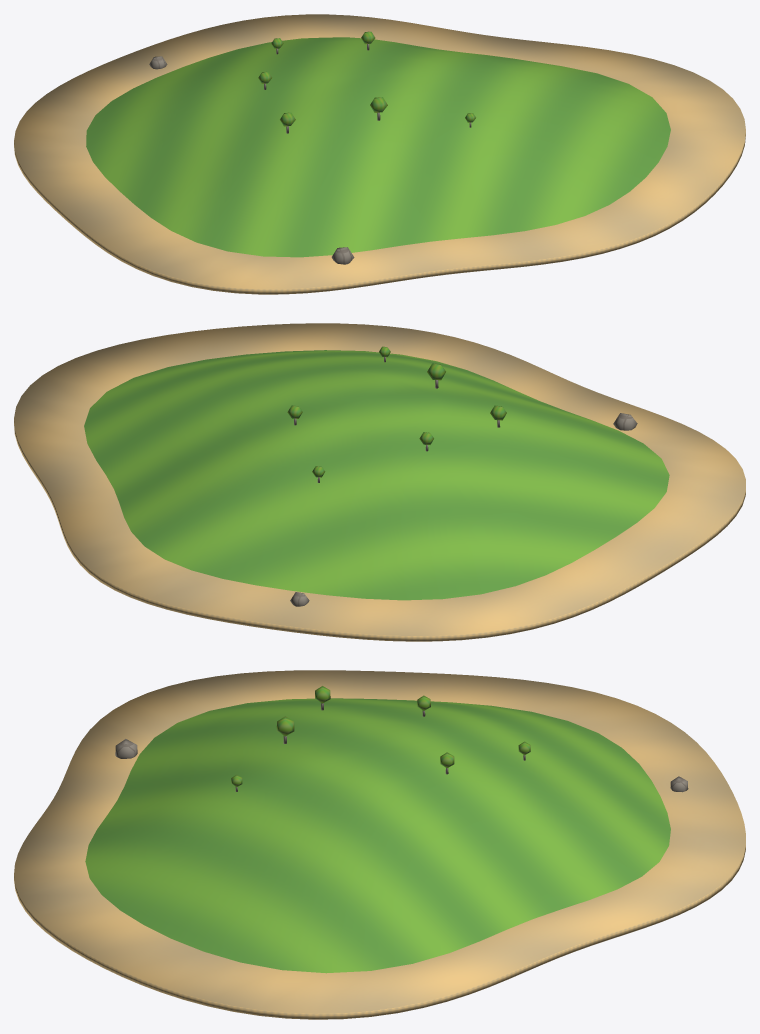
Rendered from ISL-L_LOD1.fbx.
3 views of the same model, one above another, from view 1: azimuth 30°, elevation 25°; view 2: azimuth 150°, elevation 25°; view 3: azimuth 270°, elevation 25° (orthographic). The views are drawn at different scales.
Parts seen in each view (by area): view 1: ISL-L_LOD1_Assembled; view 2: ISL-L_LOD1_Assembled; view 3: ISL-L_LOD1_Assembled.
Part boxes in pixels (x1=…): ISL-L_LOD1_Assembled: x1=14, y1=14, x2=745, y2=294; ISL-L_LOD1_Assembled: x1=14, y1=323, x2=745, y2=641; ISL-L_LOD1_Assembled: x1=14, y1=670, x2=745, y2=1019.
Size of the model in its own units: 188 by 170 by 26.81.
Materials: 3 (3 with a texture image).
